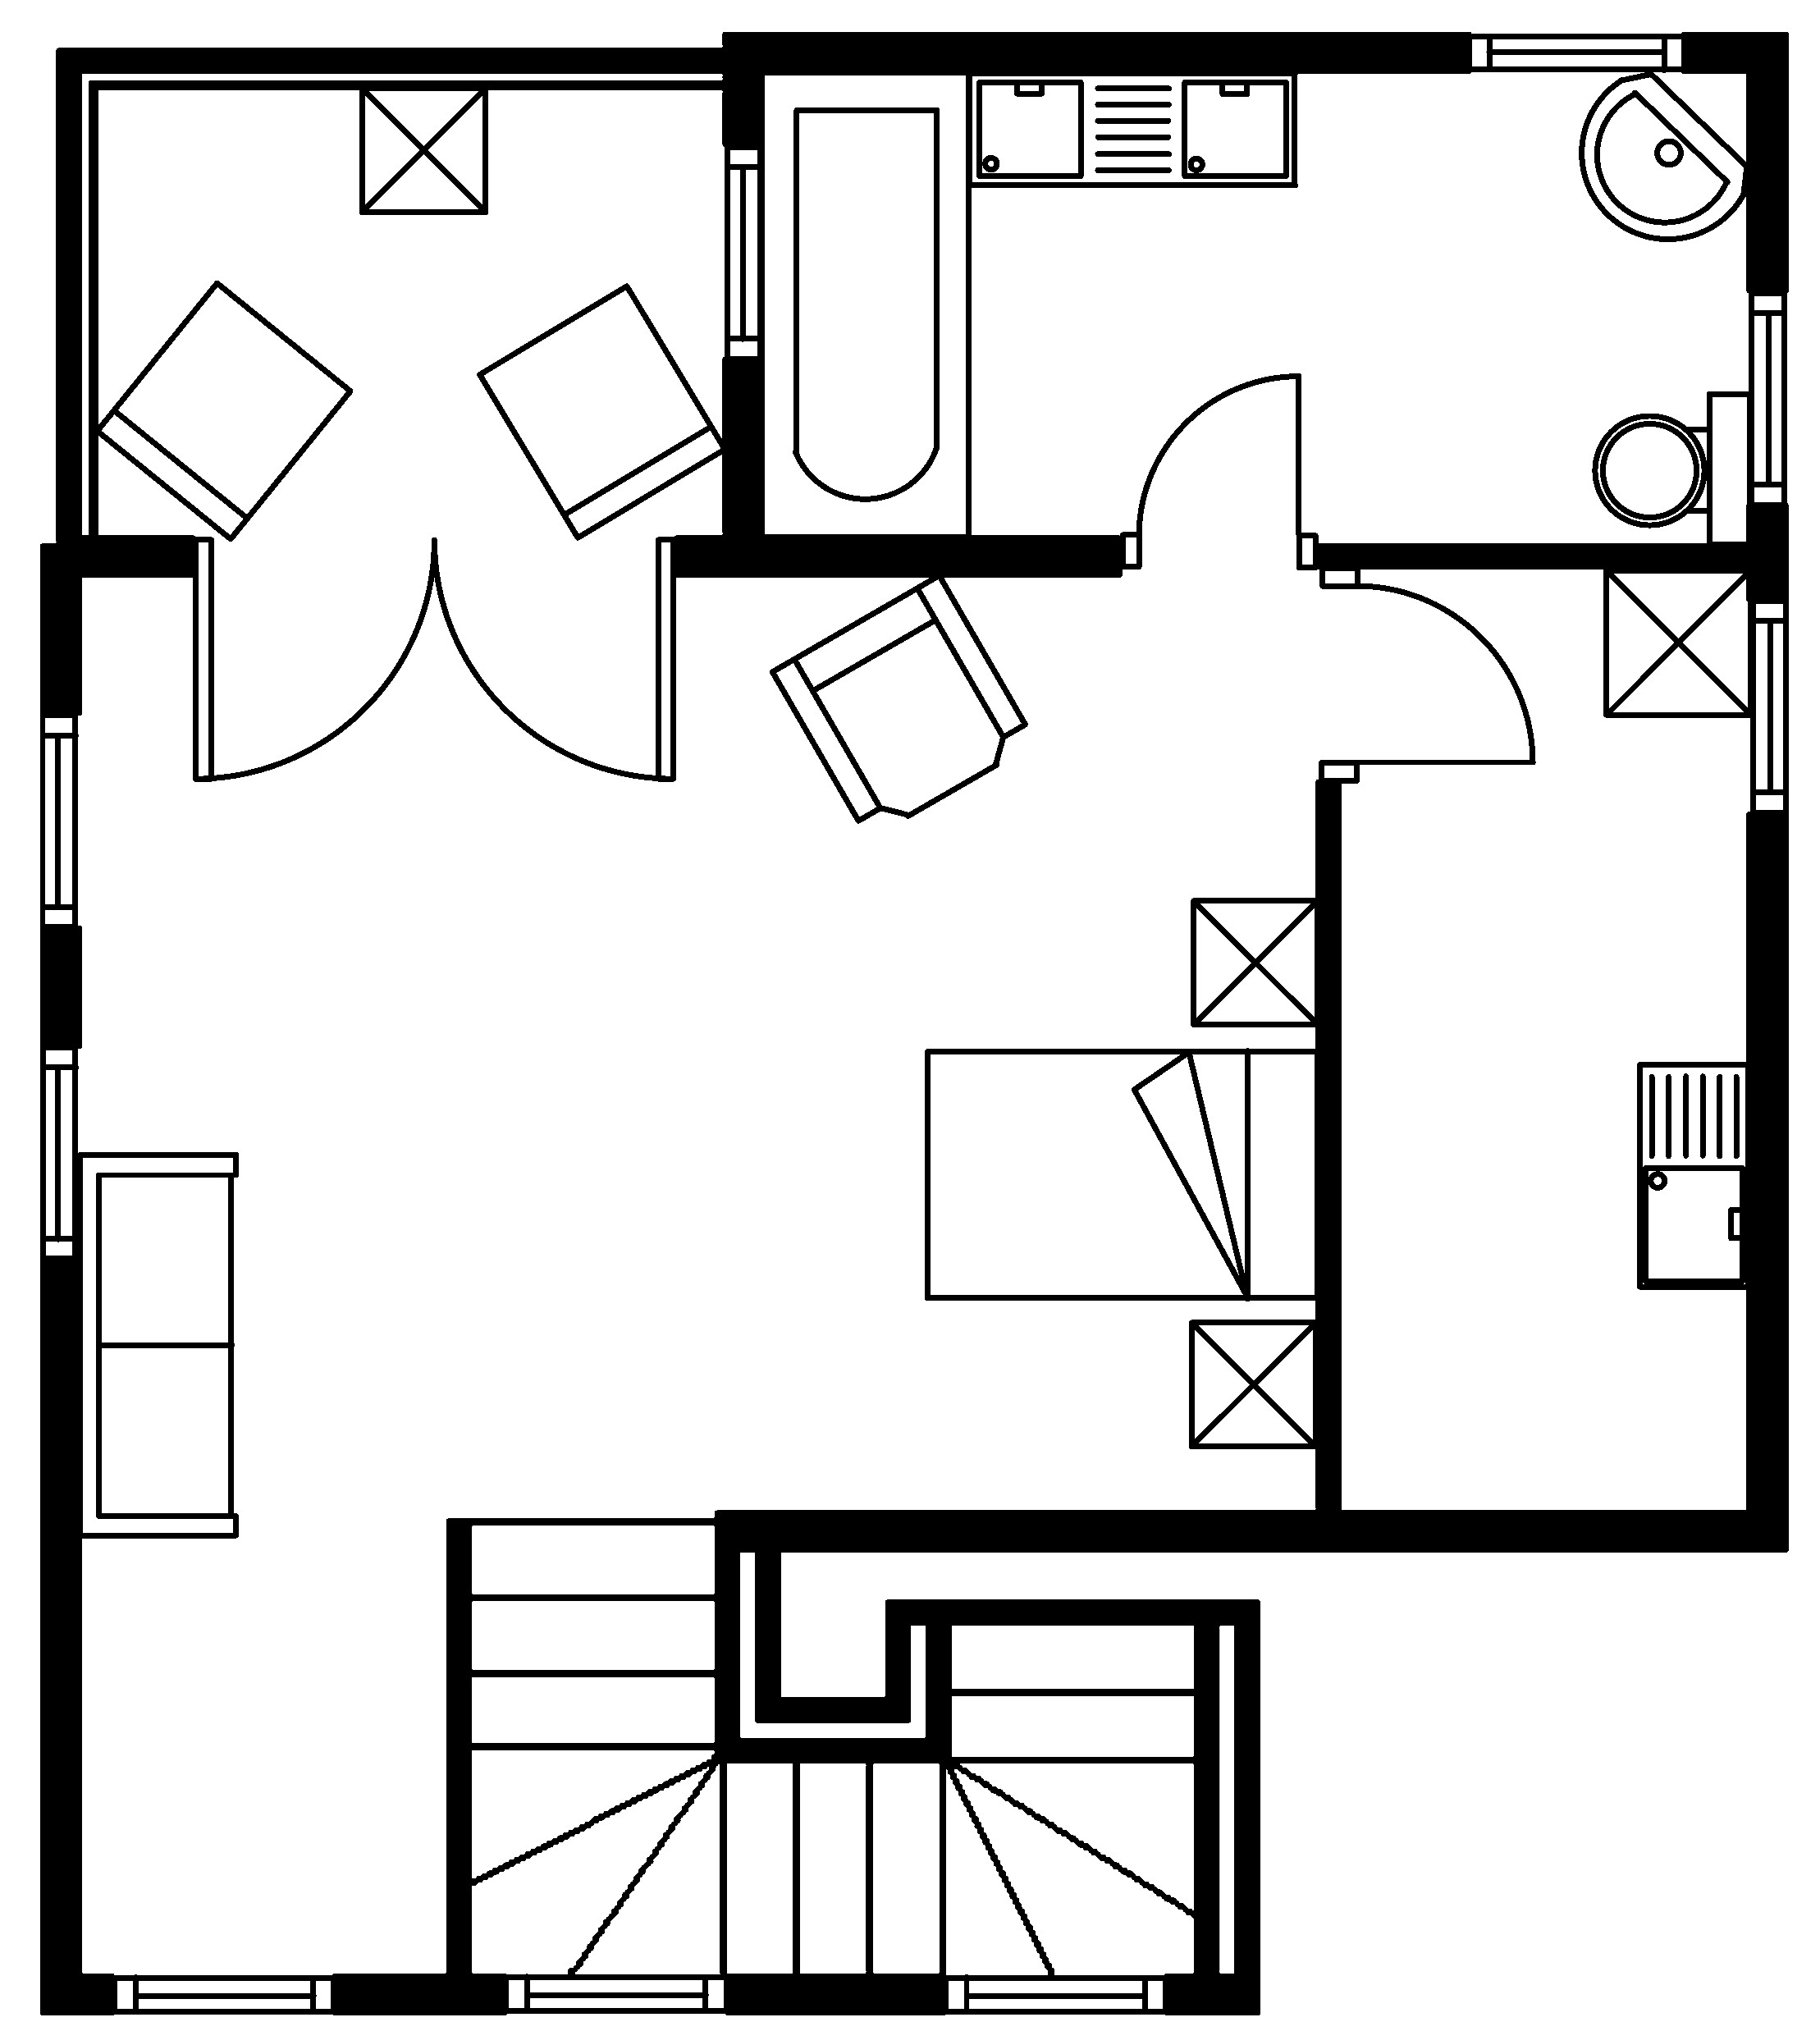armchair: (768, 571, 1028, 824)
bed: (922, 1047, 1321, 1302)
coffee_table: (1602, 566, 1753, 719), (1186, 1318, 1319, 1449), (1189, 896, 1321, 1028), (357, 84, 488, 214)
large_sink: (1592, 388, 1753, 548)
large_sofa: (76, 1151, 239, 1539)
sink: (1636, 1059, 1751, 1290)
small_sink: (1578, 70, 1750, 241)
small_sofa: (93, 278, 353, 543), (474, 281, 727, 541)
tub: (757, 69, 971, 539)
twin_sink: (964, 69, 1298, 188)
